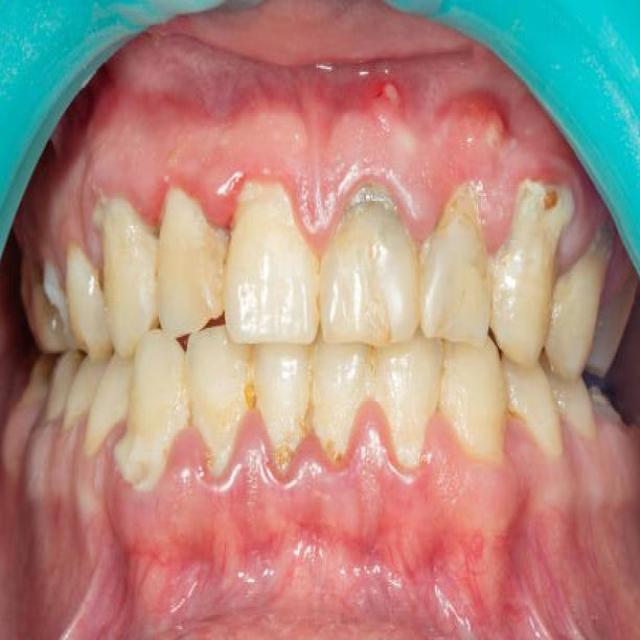Gingivitis: (116, 31, 366, 116), (108, 517, 182, 616), (452, 78, 522, 145), (375, 66, 422, 125)
